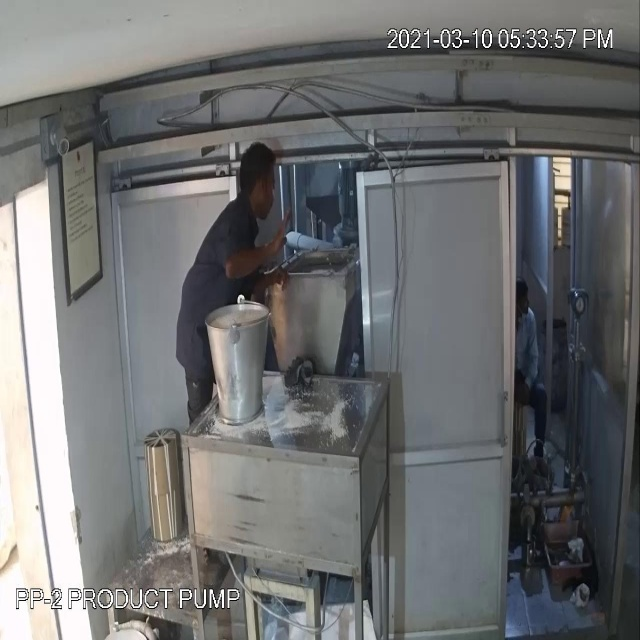Sin_guantes: (219, 210, 300, 287)
